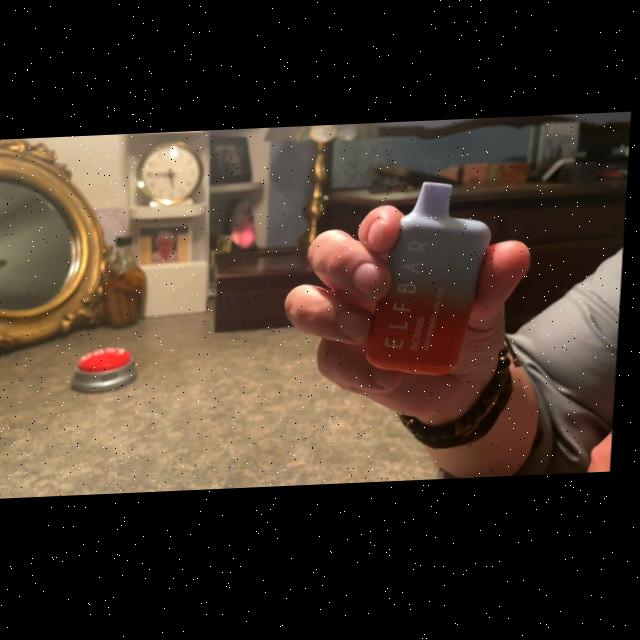vape: (368, 184, 498, 383)
